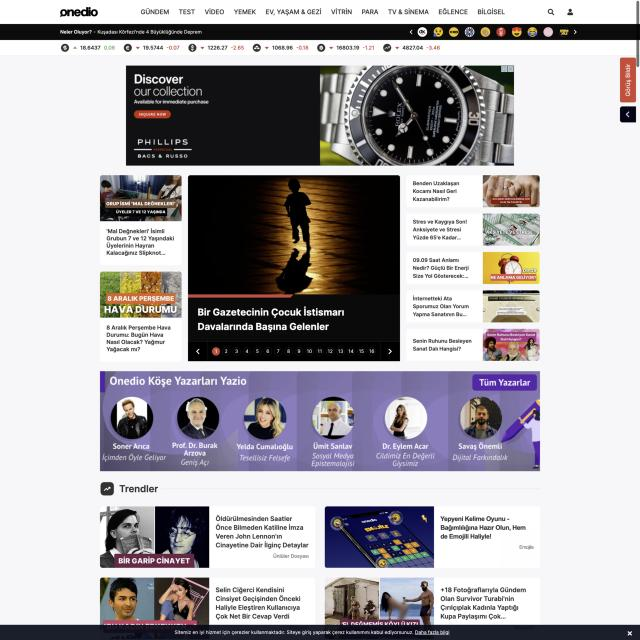logo: (57, 3, 99, 20)
navigation: (139, 5, 506, 16)
